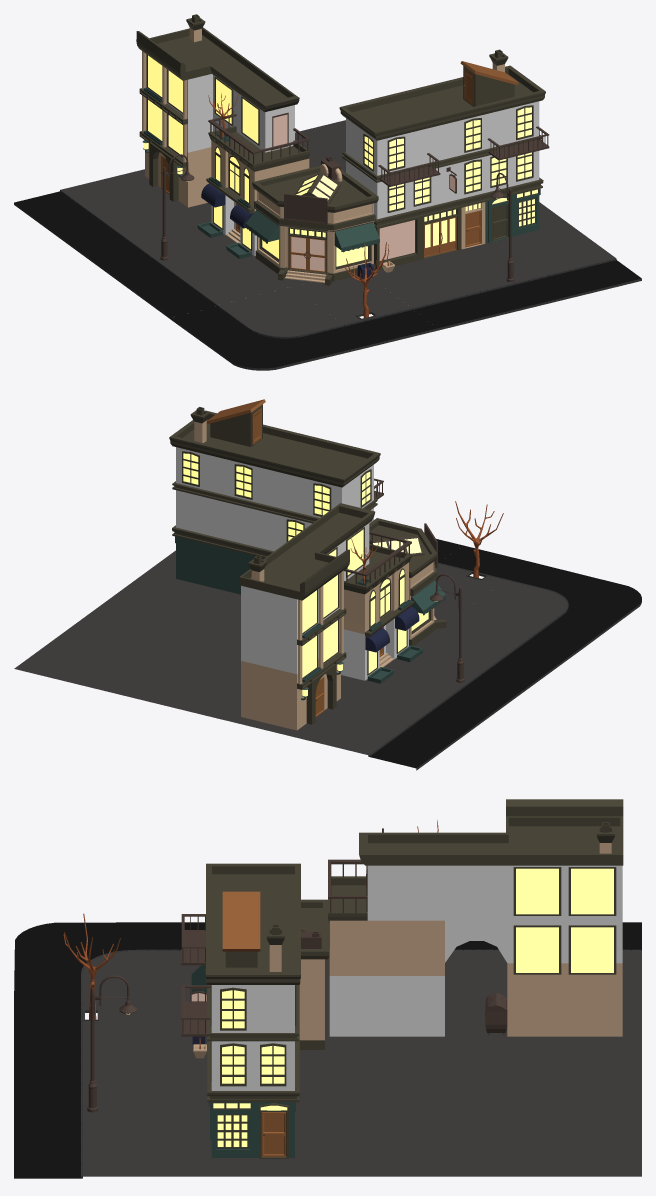
The model's file is shopAndHouse.fbx.
3 renders of one model, top to bottom at view 1: azimuth 30°, elevation 25°; view 2: azimuth 150°, elevation 25°; view 3: azimuth 270°, elevation 25°, orthographic. The views are drawn at different scales.
Visible parts, largest first — view 1: Street, House 1, House 2, Shop, lantern rgt, lantern rgt.001, simple tree.001; view 2: Street, House 2, House 1, Shop, lantern rgt, simple tree.001; view 3: Street, House 2, House 1, Shop, lantern rgt.001, simple tree.001.
Boxes of the visible parts, left/top/right/bottom form: Street: left=14, top=120, right=641, bottom=370; House 1: left=339, top=49, right=549, bottom=269; House 2: left=136, top=14, right=309, bottom=258; Shop: left=245, top=157, right=379, bottom=285; lantern rgt: left=160, top=154, right=194, bottom=260; lantern rgt.001: left=490, top=173, right=514, bottom=281; simple tree.001: left=344, top=242, right=386, bottom=317; Street: left=14, top=539, right=641, bottom=770; House 2: left=239, top=503, right=423, bottom=730; House 1: left=169, top=399, right=383, bottom=594; Shop: left=369, top=518, right=446, bottom=645; lantern rgt: left=430, top=574, right=464, bottom=682; simple tree.001: left=455, top=501, right=503, bottom=577; Street: left=14, top=922, right=641, bottom=1178; House 2: left=328, top=799, right=623, bottom=1036; House 1: left=181, top=863, right=300, bottom=1158; Shop: left=191, top=899, right=329, bottom=1049; lantern rgt.001: left=87, top=975, right=137, bottom=1112; simple tree.001: left=63, top=913, right=120, bottom=1019.
Bounding box in the file's own units: 5814 × 2460 × 6016.
